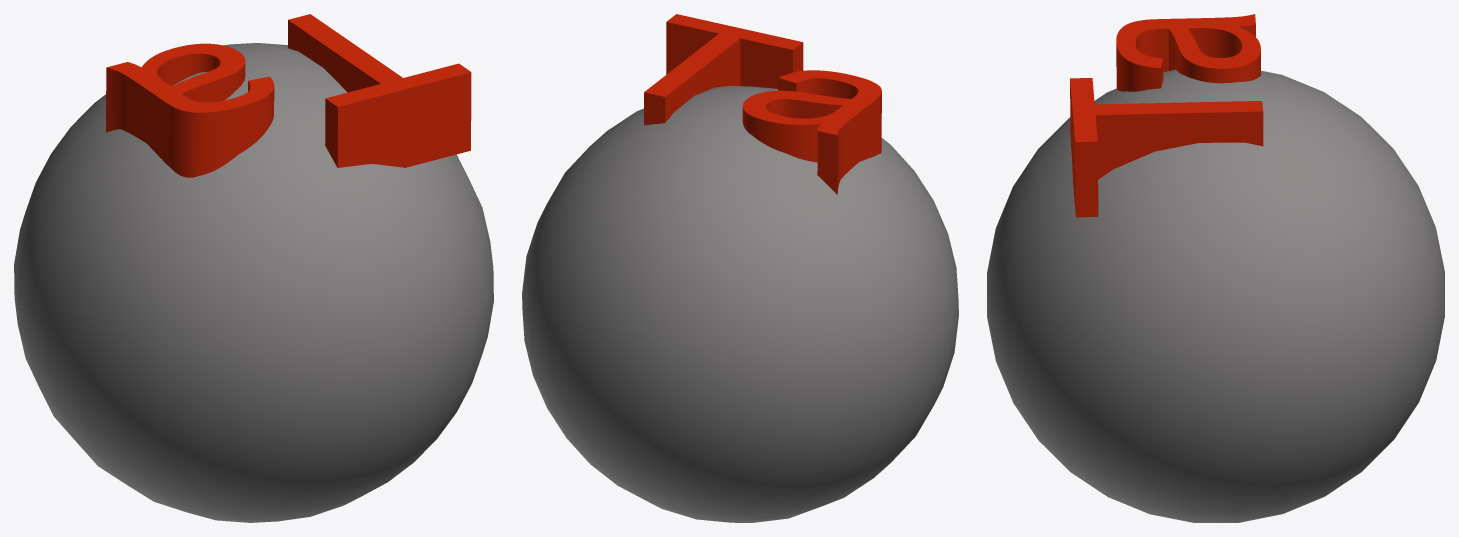
3 views of the same model, side by side, from view 1: azimuth 30°, elevation 25°; view 2: azimuth 150°, elevation 25°; view 3: azimuth 270°, elevation 25° (orthographic). The views are drawn at different scales.
Visible parts, largest first — view 1: Ta; view 2: Ta; view 3: Ta.
Boxes of the visible parts, x1,y1,x2,y2 form: Ta: (14,14,493,522); Ta: (522,14,958,522); Ta: (987,14,1444,522).
Bounding box in the file's own units: 38.71 × 39.85 × 38.57.
